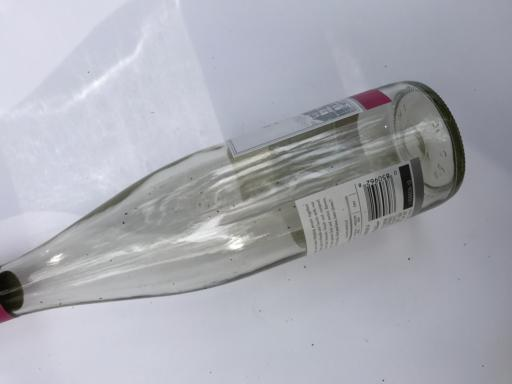botolkaca: (1, 81, 466, 324)
